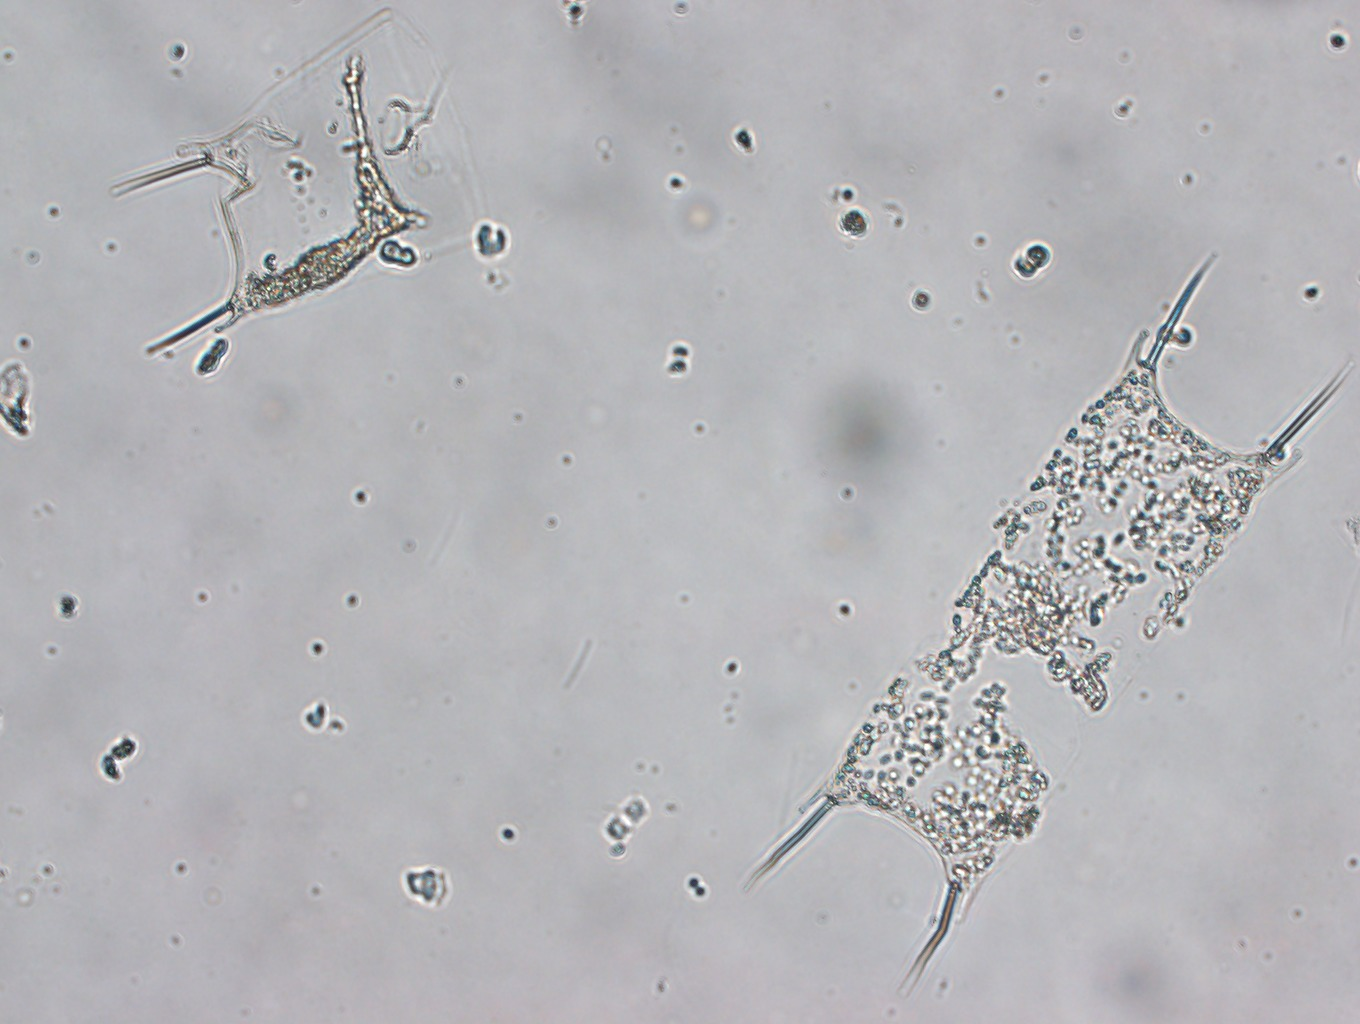biddulphia: (738, 241, 1360, 996), (109, 1, 502, 356)
